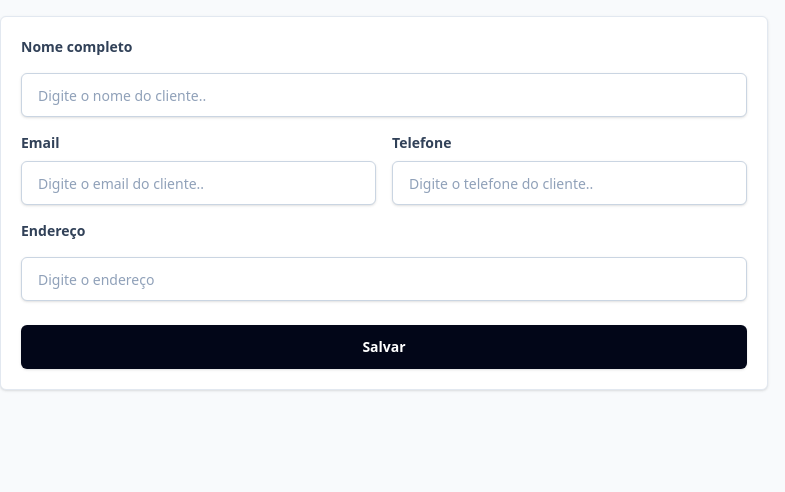
Test: NewCustomerForm › shows validation messages and does not submit invalid data
Click the button "Salvar": (384, 347) [21, 325, 747, 369]
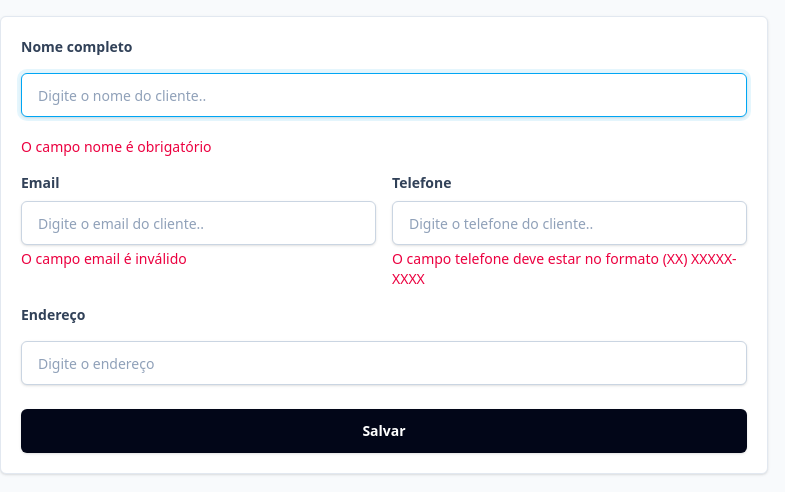
expect the text "O campo nome é obrigatório" is shown: met, box [21, 137, 212, 156]
expect the text "O campo email é inválido" is shown: met, box [21, 249, 187, 268]
expect the text "O campo telefone deve estar no formato (XX) XXXXX-XXXX" is shown: met, box [392, 249, 747, 289]
